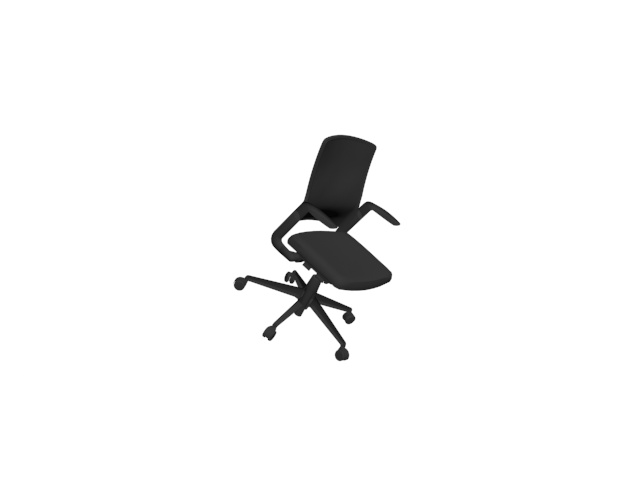desk_chair: (233, 129, 408, 368)
